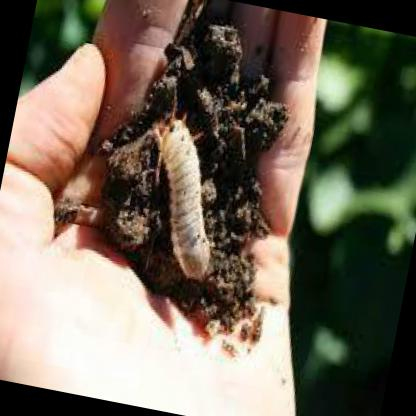root grubs: (155, 116, 210, 279)
